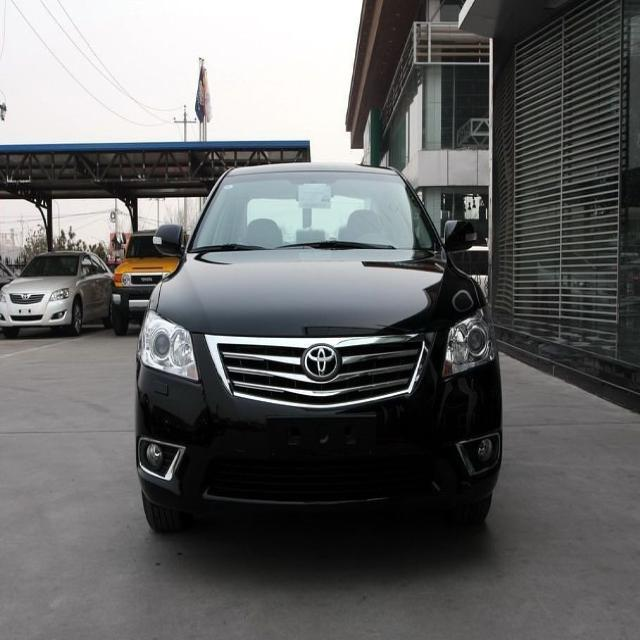front_bumper: (134, 351, 503, 510)
front_glass: (188, 172, 439, 254)
front_left_side_light: (440, 299, 499, 380)
front_left_side_mirror: (442, 218, 478, 253)
front_right_side_light: (137, 307, 200, 386)
front_right_side_mirror: (151, 218, 191, 262)
